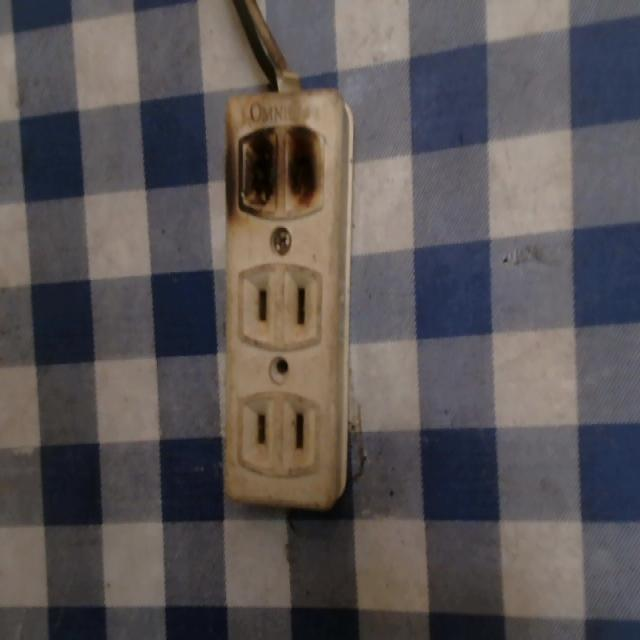-: (220, 114, 334, 222)
